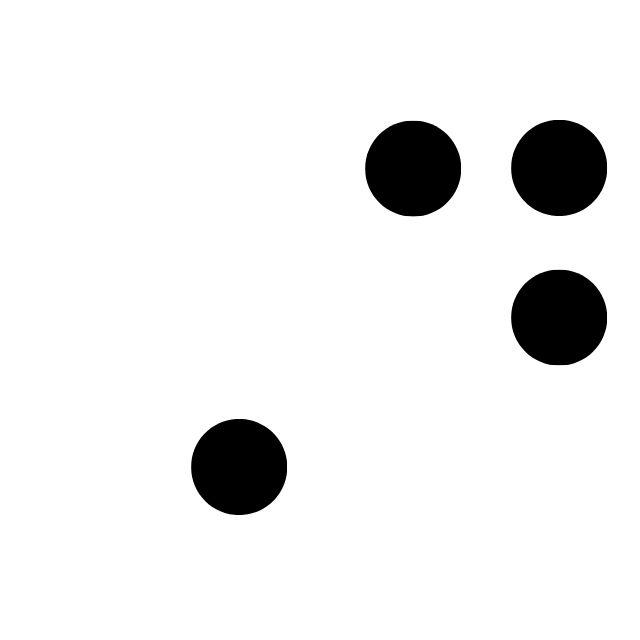D: (366, 121, 608, 516)
capital: (47, 121, 289, 516)
